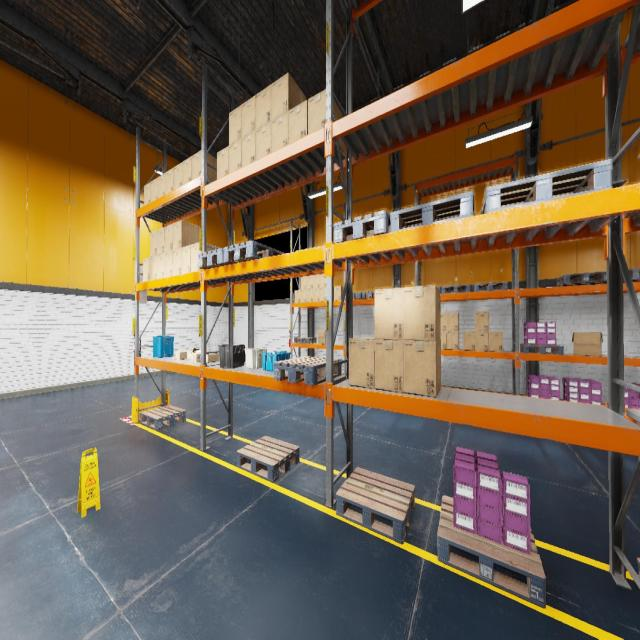box: (308, 89, 343, 152), (404, 339, 441, 397), (403, 285, 440, 341), (272, 72, 306, 120), (375, 339, 403, 393), (375, 288, 403, 340), (349, 337, 375, 389), (191, 242, 221, 272), (288, 100, 308, 144), (173, 220, 201, 250), (192, 150, 217, 181), (572, 332, 603, 356), (256, 84, 271, 129), (272, 111, 288, 152), (242, 95, 256, 137), (256, 121, 271, 160), (229, 104, 242, 145), (242, 130, 256, 167), (229, 139, 241, 173), (217, 146, 229, 179), (181, 245, 191, 274), (182, 156, 192, 184), (489, 332, 503, 352), (475, 331, 489, 351), (475, 312, 489, 331), (463, 331, 475, 350), (446, 312, 458, 331), (447, 331, 459, 350), (173, 248, 181, 276), (174, 162, 182, 189), (150, 177, 158, 202), (165, 224, 172, 252), (157, 227, 164, 255), (166, 167, 173, 194), (150, 230, 157, 257), (158, 172, 165, 198), (165, 251, 172, 277), (157, 253, 164, 279), (143, 257, 150, 282), (150, 256, 156, 280), (144, 182, 150, 205), (317, 330, 326, 344), (334, 286, 343, 300), (206, 353, 218, 362), (175, 350, 187, 359), (192, 346, 207, 352), (441, 331, 446, 349), (441, 313, 446, 331), (320, 287, 326, 301), (313, 288, 319, 302), (306, 288, 312, 302), (313, 274, 319, 288), (306, 275, 312, 289), (320, 274, 326, 287), (192, 353, 200, 362), (301, 289, 306, 302), (295, 290, 300, 303), (301, 276, 306, 289), (187, 351, 192, 359)
pallets: (437, 495, 546, 608), (481, 159, 612, 214), (336, 468, 415, 544), (390, 192, 475, 232), (237, 436, 299, 482), (274, 356, 341, 385), (334, 210, 390, 243), (224, 241, 285, 264), (140, 404, 186, 430), (198, 248, 251, 269), (557, 272, 606, 286), (600, 268, 640, 284), (520, 344, 563, 354), (473, 282, 508, 292), (442, 284, 471, 294), (294, 337, 316, 343), (478, 390, 510, 394), (345, 292, 362, 299), (637, 558, 640, 588), (362, 291, 374, 298), (437, 286, 441, 294)
